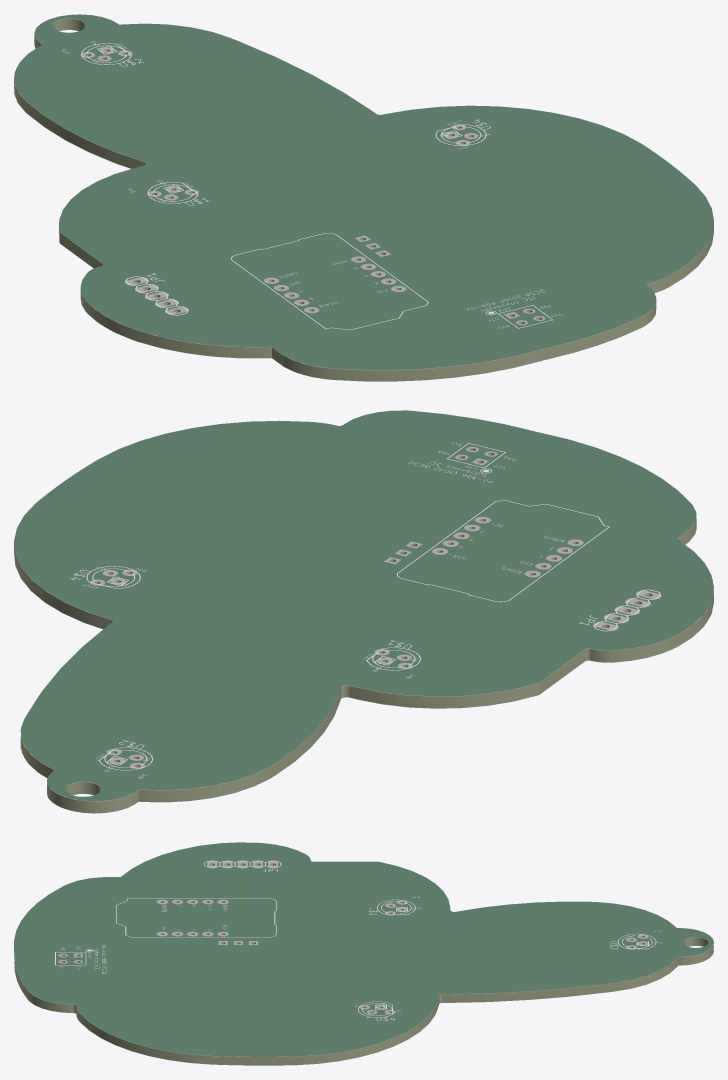
The model's file is defcon26-middle-finger-badge.glb.
3 views of the same model, one above another, from view 1: azimuth 30°, elevation 25°; view 2: azimuth 150°, elevation 25°; view 3: azimuth 270°, elevation 25° (orthographic). The views are drawn at different scales.
Parts seen in each view (by area): view 1: =>[0:1:1:8], =>[0:1:1:6], =>[0:1:1:2], =>[0:1:1:4]; view 2: =>[0:1:1:8], =>[0:1:1:6], =>[0:1:1:2], =>[0:1:1:4]; view 3: =>[0:1:1:8], =>[0:1:1:6], =>[0:1:1:2], =>[0:1:1:4].
Part boxes in pixels (bbox=[...]): =>[0:1:1:8]: bbox=[14, 15, 713, 381]; =>[0:1:1:6]: bbox=[14, 14, 713, 381]; =>[0:1:1:2]: bbox=[82, 47, 544, 325]; =>[0:1:1:4]: bbox=[62, 41, 561, 329]; =>[0:1:1:8]: bbox=[14, 411, 713, 812]; =>[0:1:1:6]: bbox=[14, 410, 713, 813]; =>[0:1:1:2]: bbox=[90, 447, 660, 769]; =>[0:1:1:4]: bbox=[70, 442, 660, 778]; =>[0:1:1:8]: bbox=[14, 843, 713, 1065]; =>[0:1:1:6]: bbox=[14, 842, 713, 1065]; =>[0:1:1:2]: bbox=[59, 860, 647, 1014]; =>[0:1:1:4]: bbox=[55, 861, 662, 1020].
Size of the model in its own units: 0.0848 by 0.00166 by 0.1169.
Materials: 4 (4 with a texture image).
